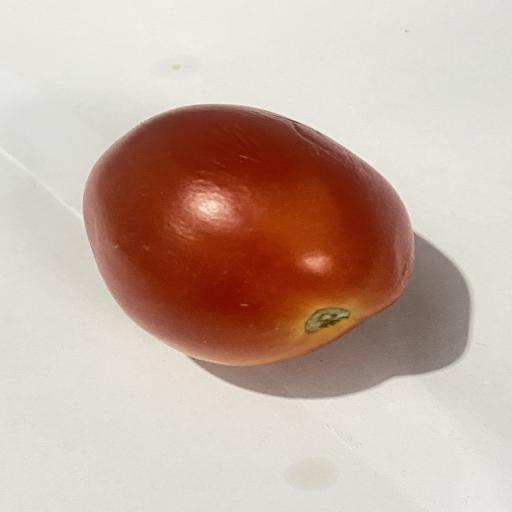overipe: (83, 104, 414, 366)
